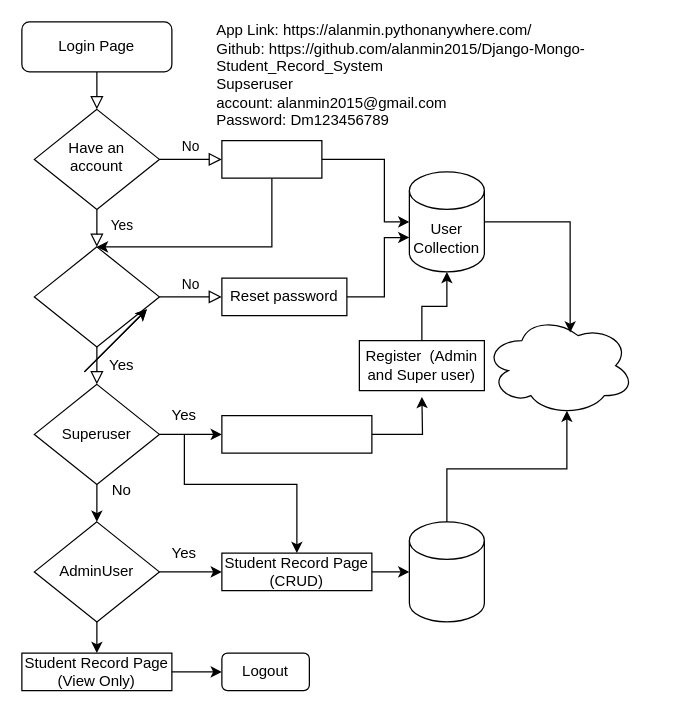
Image size: 700x713. Some labels were removed from this diagram. Here are the shapes that lost their labels. From the top down, the box of each, then its label:
(221, 139, 322, 178): Register (Normal user)
(33, 246, 159, 347): Remember password
(483, 314, 634, 416): Student Record System Database
(221, 414, 372, 453): Admin Page (CRUD)
(408, 521, 484, 622): Student Collection
